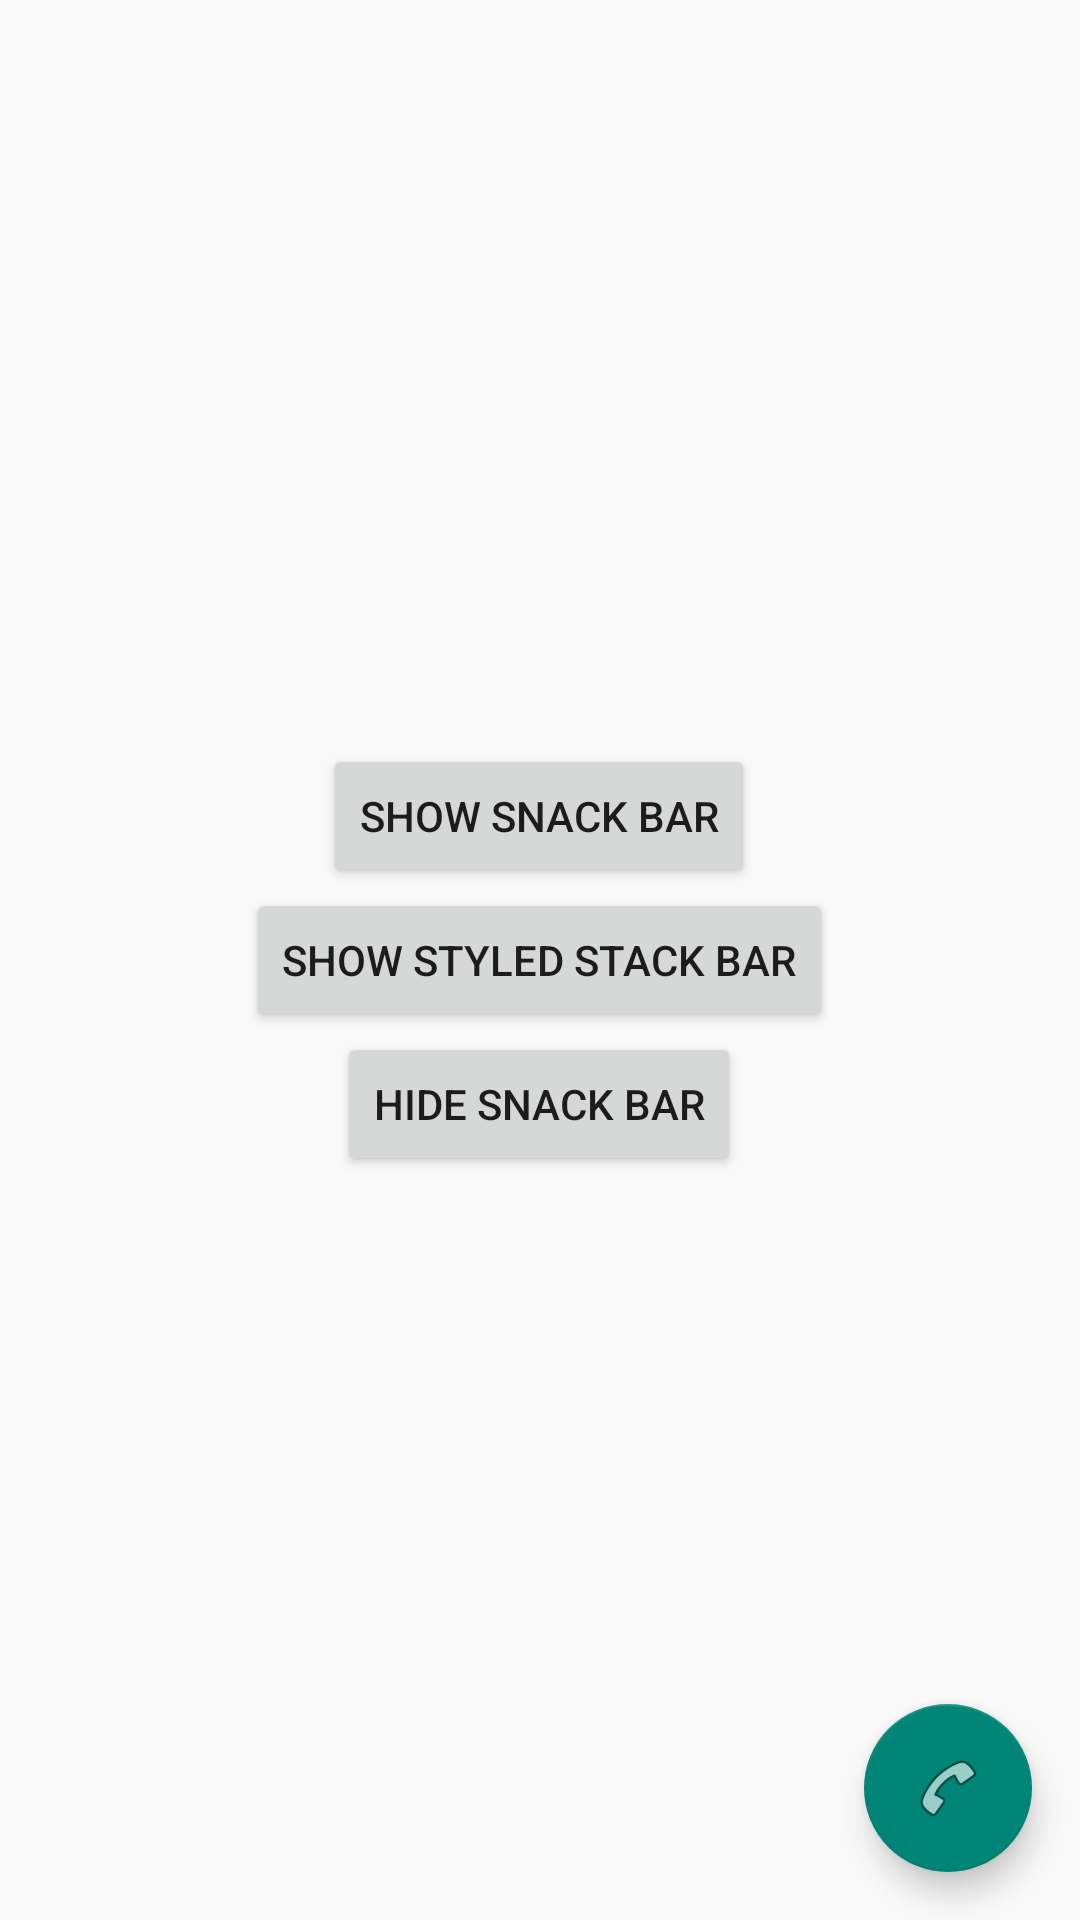

Icon click points for this 1080*1920 phone screenshot, format point (x, y):
call: point (948, 1788)
